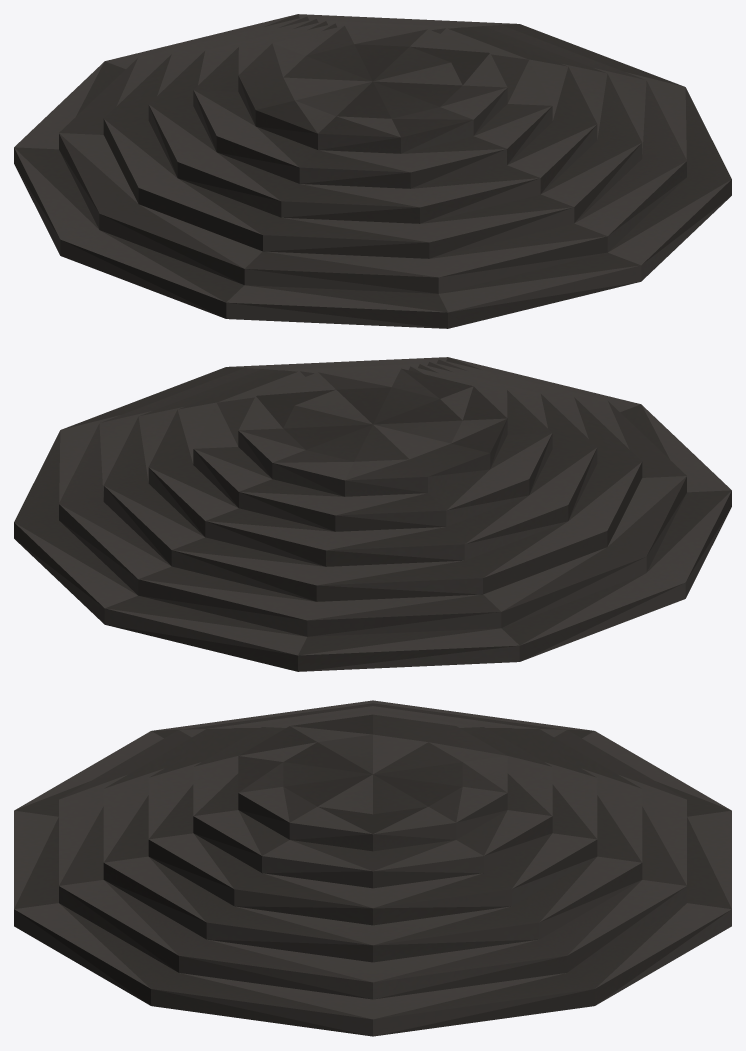
File: Platform.fbx
3 views of the same model, one above another, from view 1: azimuth 30°, elevation 25°; view 2: azimuth 150°, elevation 25°; view 3: azimuth 270°, elevation 25° (orthographic). The views are drawn at different scales.
Parts seen in each view (by area): view 1: polySurface552; view 2: polySurface552; view 3: polySurface552.
Boxes of the visible parts, x1,y1,x2,y2 form: polySurface552: (14,14,731,328); polySurface552: (14,357,731,671); polySurface552: (14,700,731,1036).
Size of the model in its own units: 800 by 120 by 761.
1 material, 1 textured.
